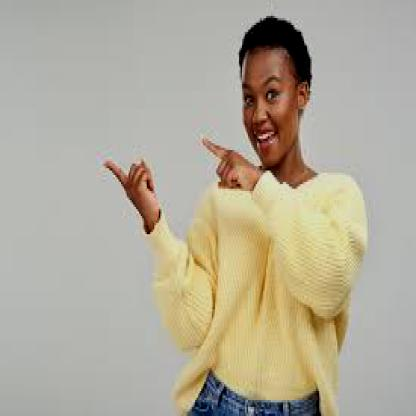Right: (102, 145, 163, 219), (197, 133, 259, 200)
